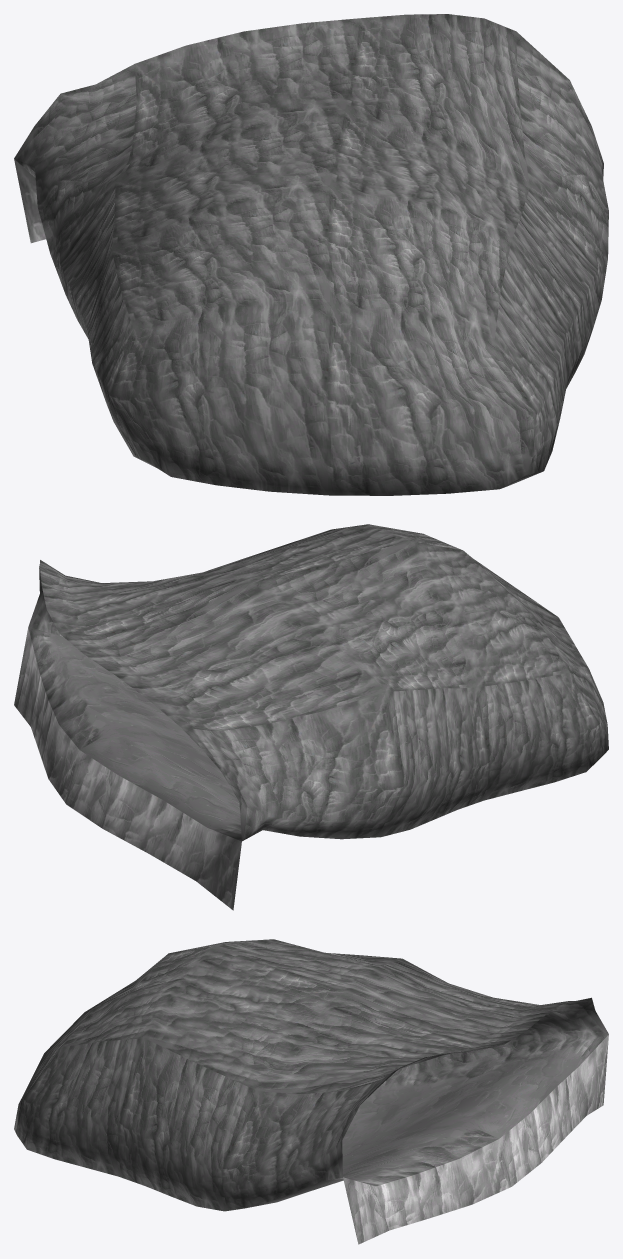
The model's file is SWORDLIGHT20_PS-AREA03_12.fbx.
3 views of the same model, one above another, from view 1: azimuth 30°, elevation 25°; view 2: azimuth 150°, elevation 25°; view 3: azimuth 270°, elevation 25° (orthographic). The views are drawn at different scales.
Parts seen in each view (by area): view 1: SWORDLIGHT20_PS-AREA03_12; view 2: SWORDLIGHT20_PS-AREA03_12; view 3: SWORDLIGHT20_PS-AREA03_12.
Boxes of the visible parts, x1,y1,x2,y2 form: SWORDLIGHT20_PS-AREA03_12: (14, 14, 608, 495); SWORDLIGHT20_PS-AREA03_12: (14, 524, 608, 910); SWORDLIGHT20_PS-AREA03_12: (14, 939, 608, 1244).
Size of the model in its own units: 171064 by 64242 by 195933.
6 materials, 6 textured.
